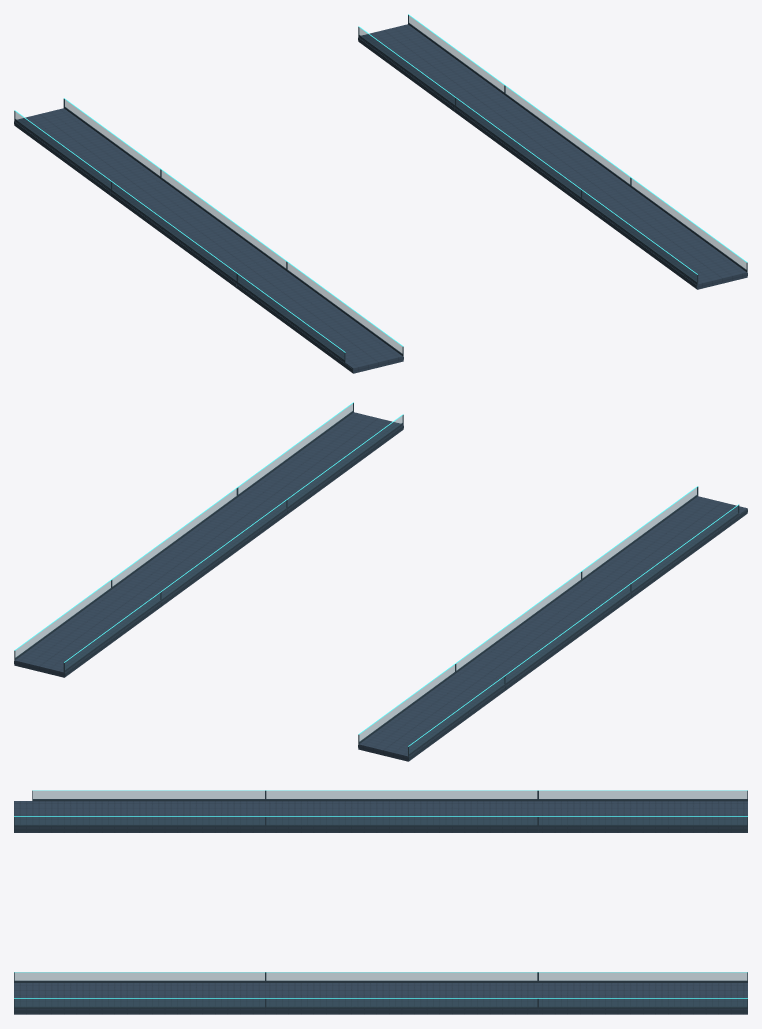
The model's file is terrace-portal-0.glb.
3 views of the same model, one above another, from view 1: azimuth 30°, elevation 25°; view 2: azimuth 150°, elevation 25°; view 3: azimuth 270°, elevation 25° (orthographic). The views are drawn at different scales.
Visible parts, largest first — view 1: terrace-portal-0; view 2: terrace-portal-0; view 3: terrace-portal-0.
Part boxes in pixels (bbox=[...]): terrace-portal-0: bbox=[14, 14, 747, 373]; terrace-portal-0: bbox=[14, 402, 747, 761]; terrace-portal-0: bbox=[14, 790, 747, 1014].
Bounding box in the file's own units: 47.1 × 1.77 × 70.
5 materials, 1 textured.
